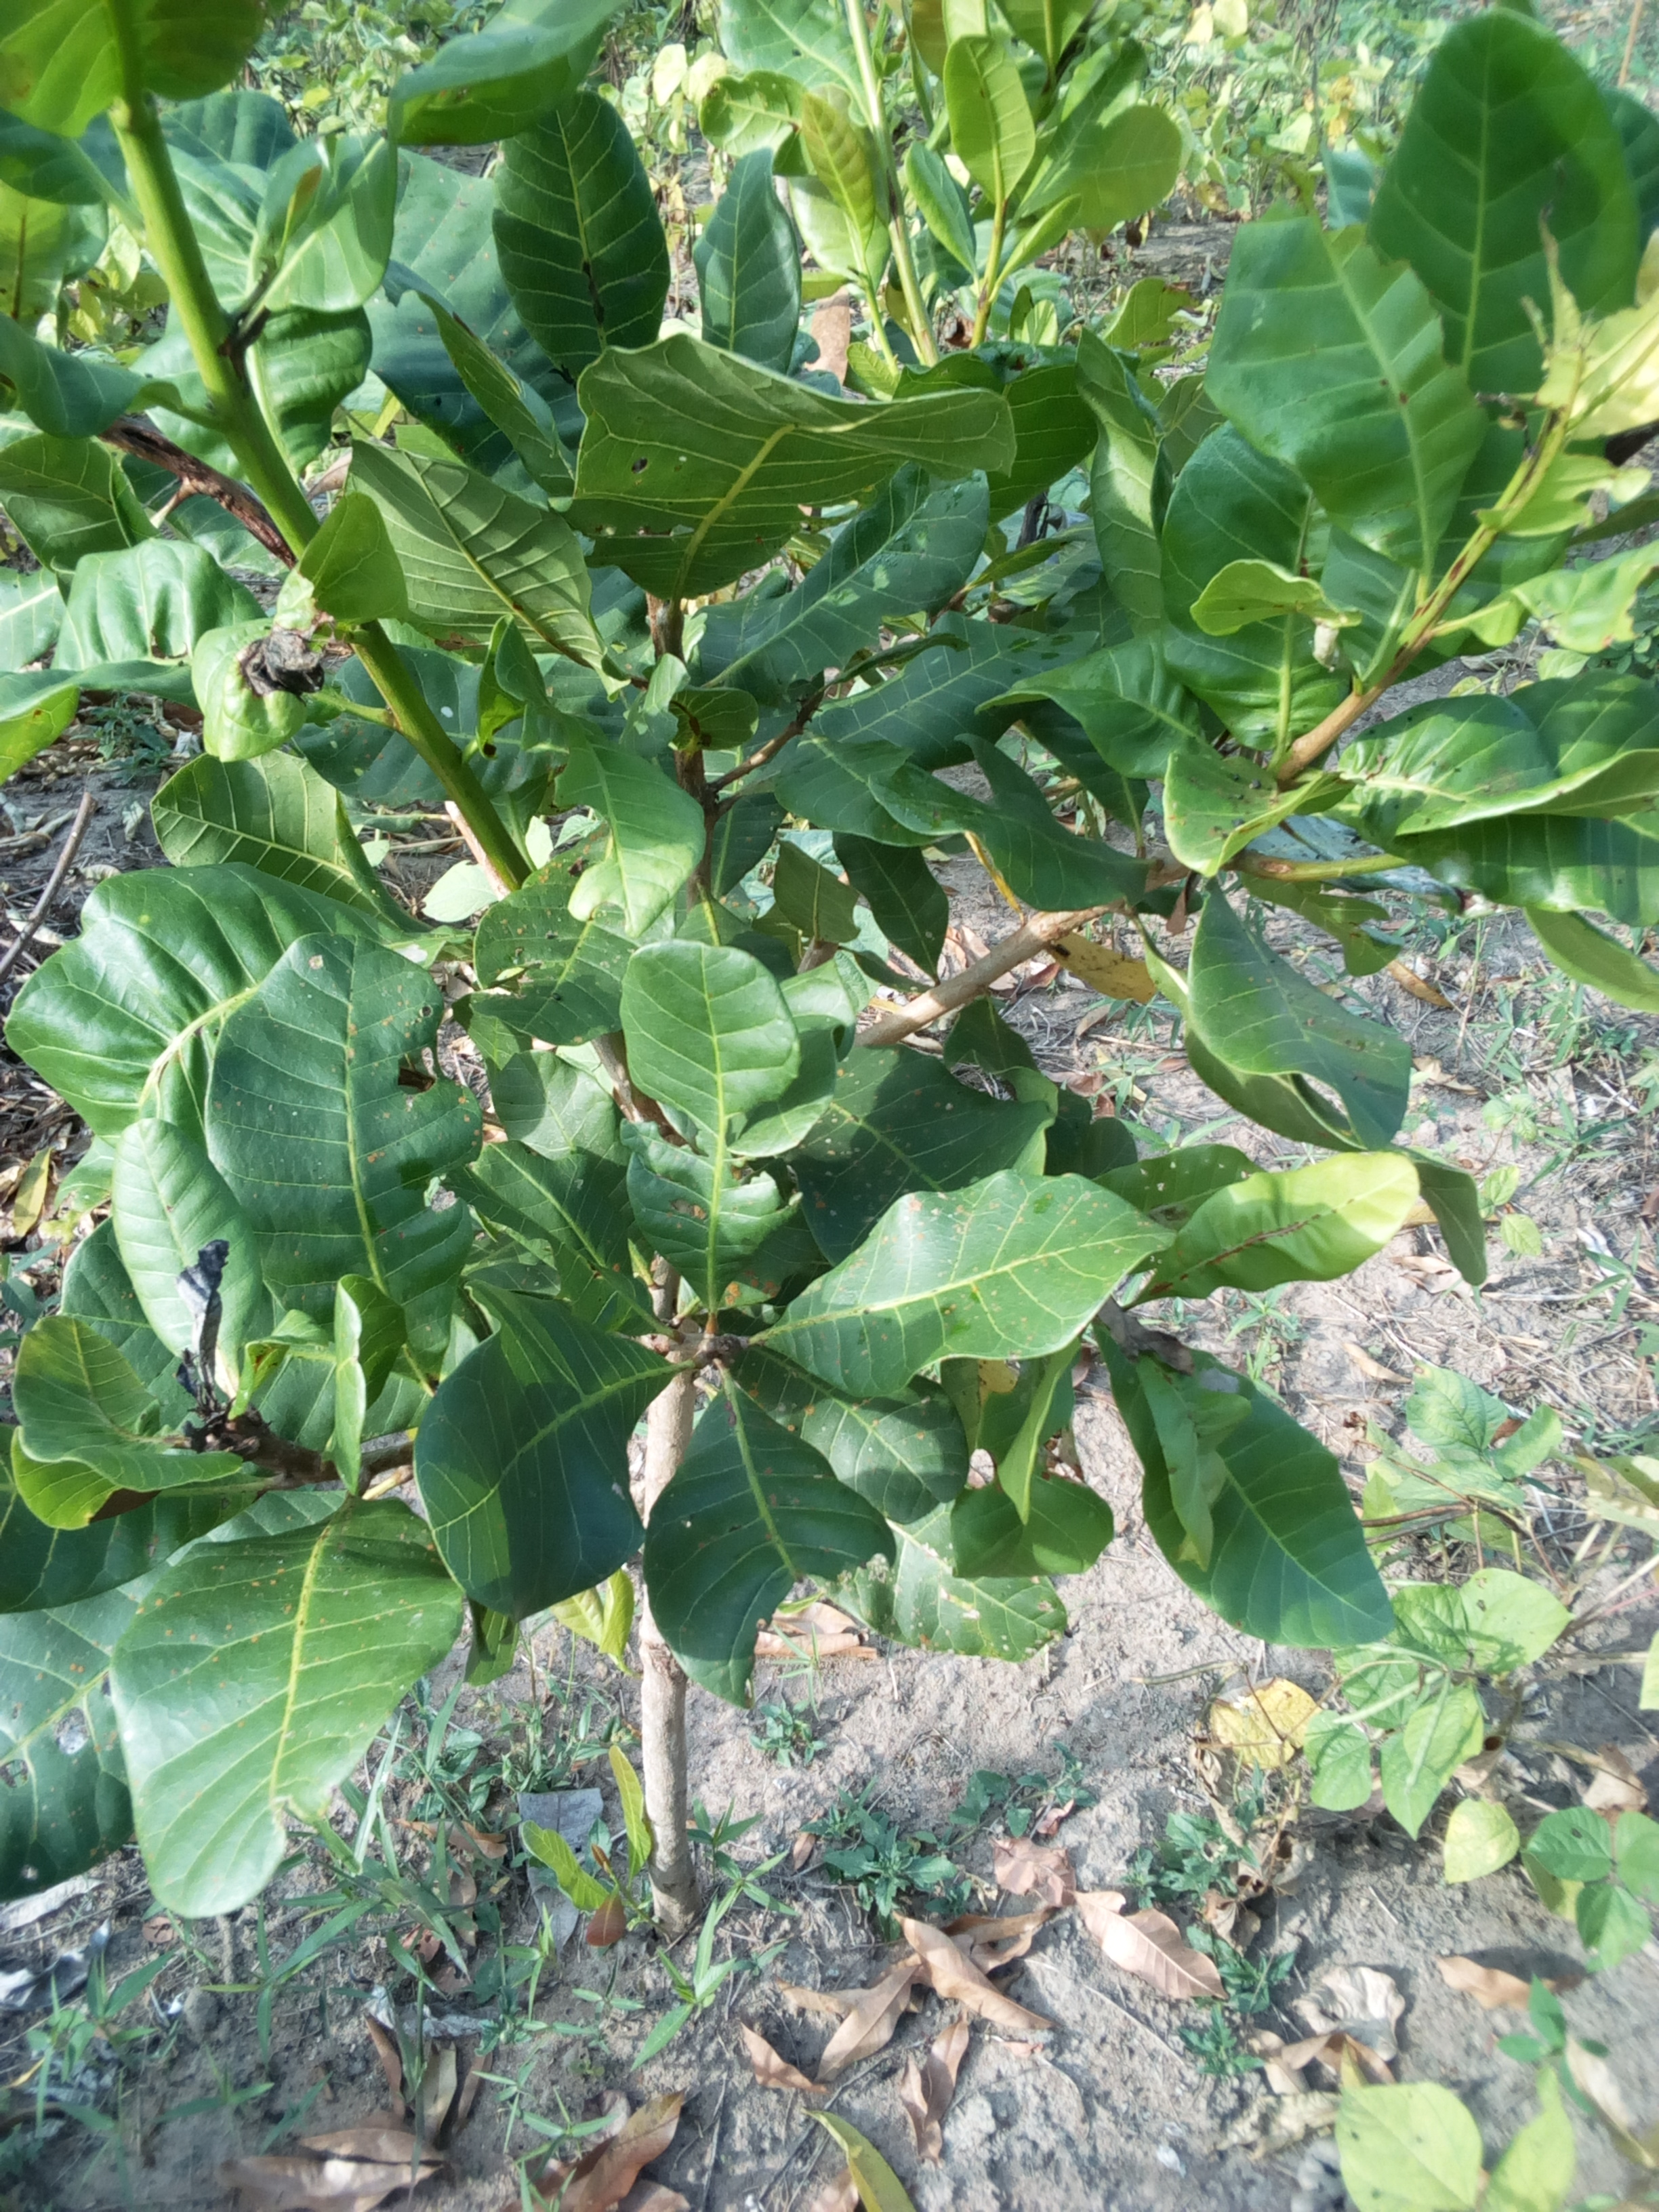Anoplonemis curvipes: (274, 913, 471, 1303)
